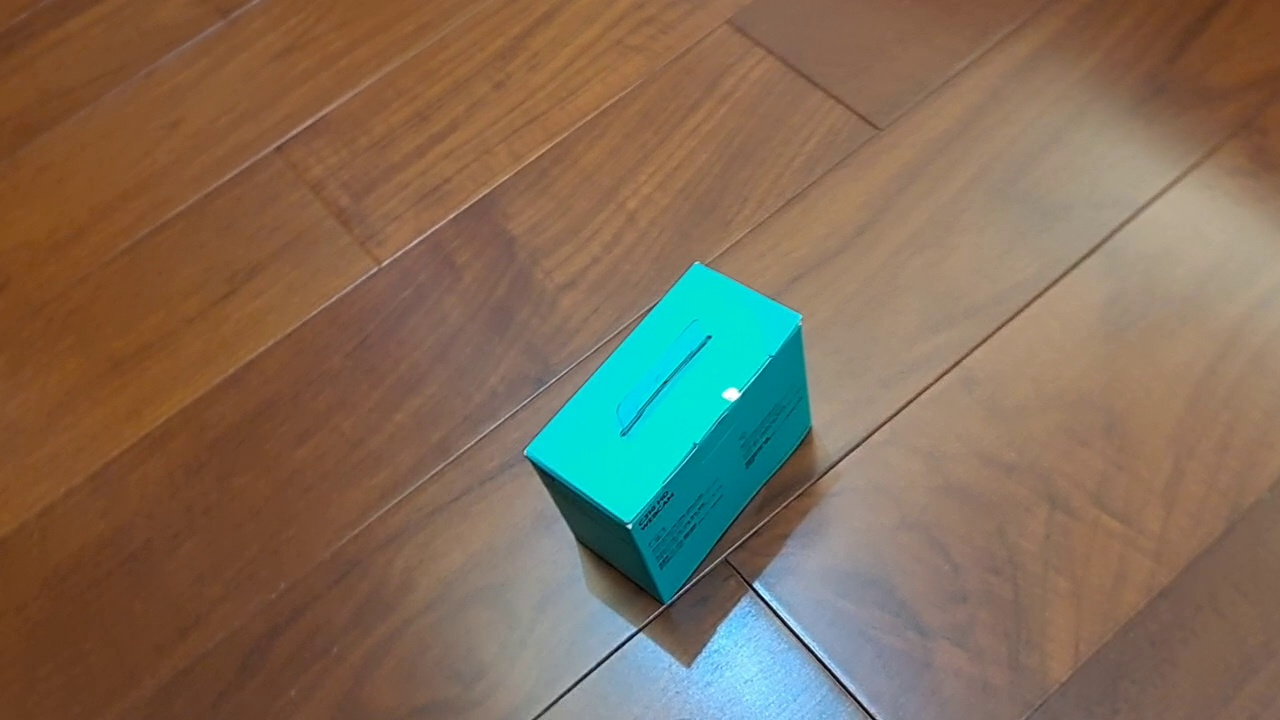webcam: (521, 259, 814, 607)
